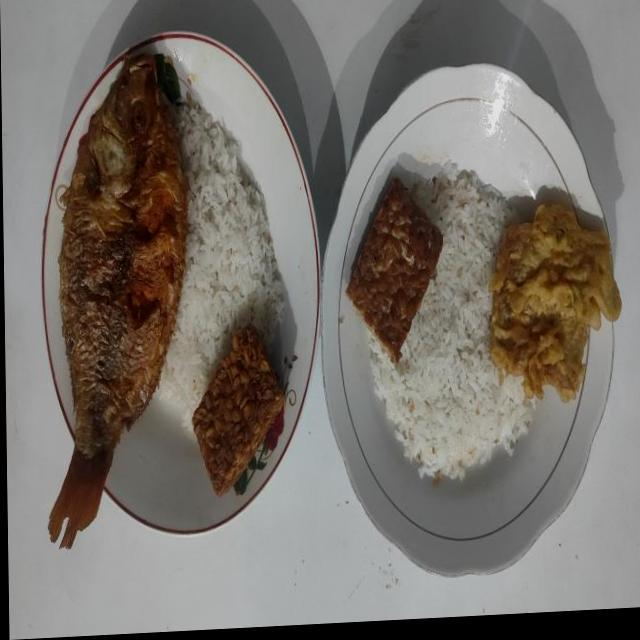ikan_mujair: (49, 55, 188, 547)
nasi_putih: (367, 162, 536, 480), (158, 100, 285, 430)
tempe_goreng: (346, 179, 443, 363), (192, 325, 284, 496)
